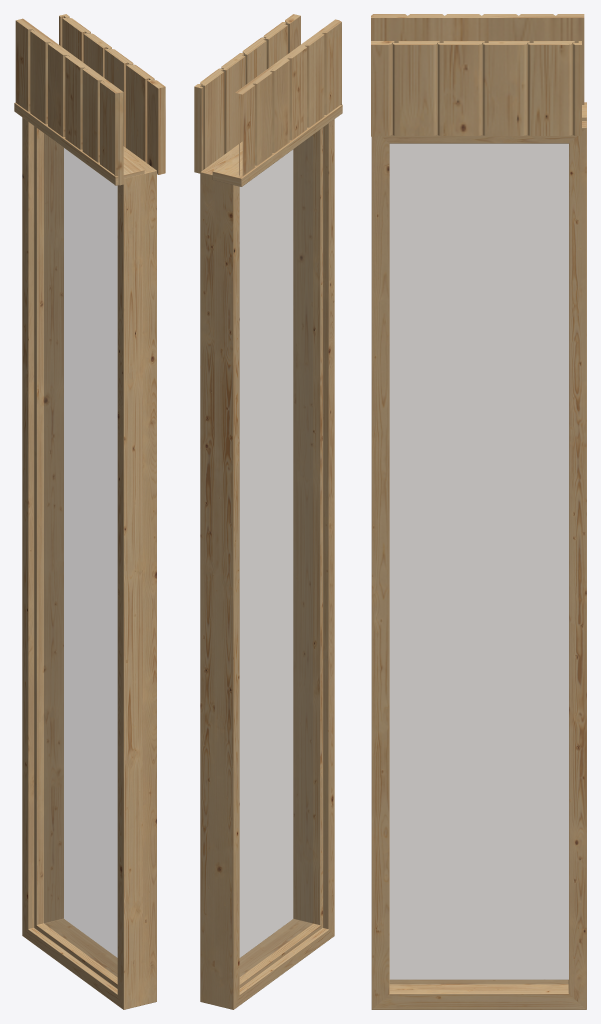
The model's file is Roundy_Sein_A_Osa2_Aknaga.glb.
3 renders of one model, left to right at view 1: azimuth 30°, elevation 25°; view 2: azimuth 150°, elevation 25°; view 3: azimuth 270°, elevation 25°, orthographic. The views are drawn at different scales.
Visible parts, largest first — view 1: Rectangle819, Roundy Klaas_000, Rectangle841, Rectangle840, Box2131641148; view 2: Rectangle819, Roundy Klaas_000, Rectangle841, Rectangle840, Box2131641148; view 3: Roundy Klaas_000, Rectangle819, Rectangle840, Rectangle841.
Part boxes in pixels (x1,y1,x2,y2): Rectangle819: [22, 117, 156, 1009]; Roundy Klaas_000: [44, 133, 117, 976]; Rectangle841: [15, 18, 123, 185]; Rectangle840: [59, 14, 165, 174]; Box2131641148: [14, 102, 144, 185]; Rectangle819: [200, 119, 334, 1009]; Roundy Klaas_000: [240, 135, 312, 976]; Rectangle841: [235, 19, 341, 176]; Rectangle840: [194, 14, 300, 173]; Box2131641148: [212, 104, 342, 186]; Roundy Klaas_000: [390, 144, 568, 983]; Rectangle819: [371, 121, 586, 1009]; Rectangle840: [371, 41, 581, 136]; Rectangle841: [371, 14, 584, 104].
Bounding box in the file's own units: 0.1194 × 2.1 × 0.4212.
2 materials, 1 textured.
